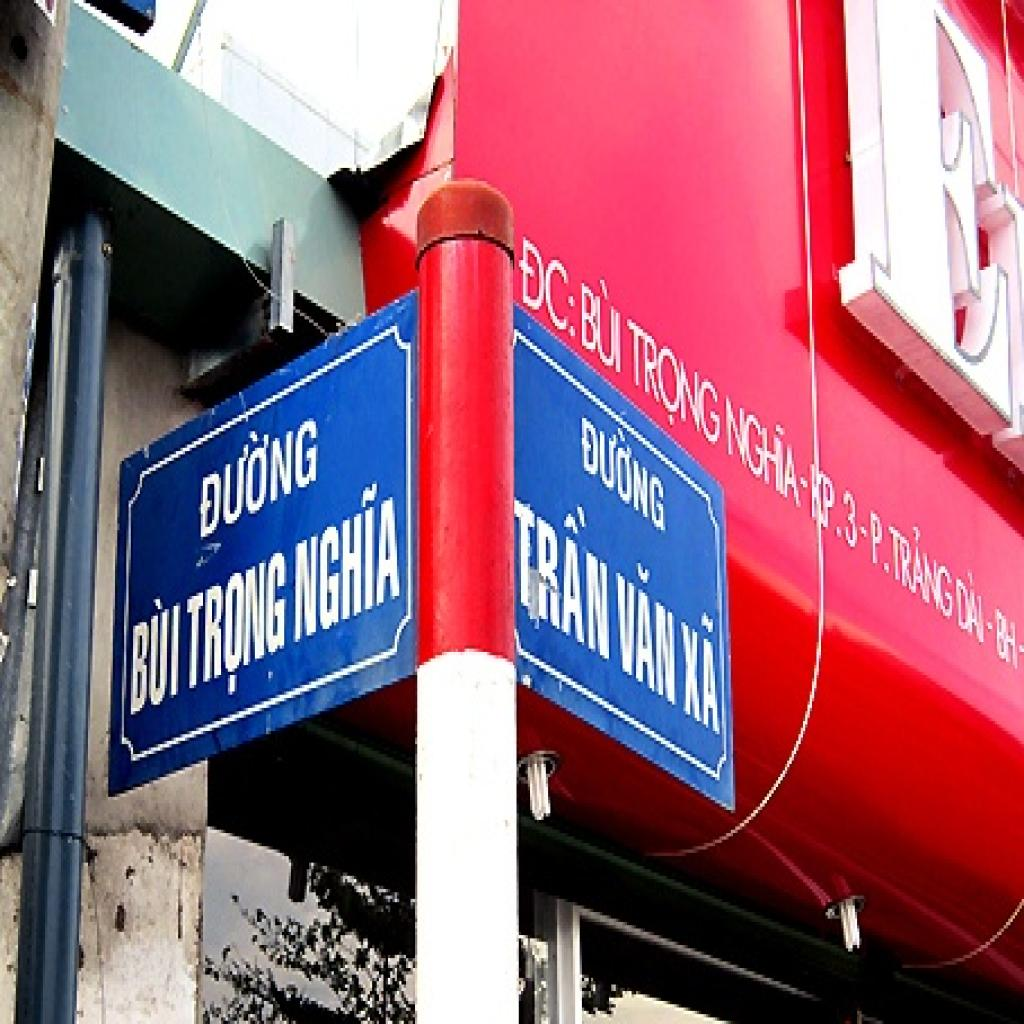text: (850, 3, 1024, 458), (514, 464, 614, 668), (293, 470, 406, 648), (198, 395, 320, 547), (185, 543, 289, 718), (627, 310, 724, 468), (580, 395, 668, 540), (613, 544, 679, 714), (724, 382, 805, 517), (886, 507, 958, 632), (129, 586, 185, 724), (518, 234, 580, 352), (679, 596, 724, 744), (810, 458, 864, 560), (580, 260, 624, 382), (954, 563, 988, 655), (868, 504, 896, 583)
